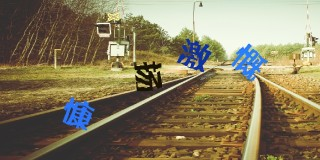慨: (231, 43, 268, 81)
慷: (62, 97, 95, 131)
扬: (133, 60, 163, 92)
激: (176, 38, 211, 72)
